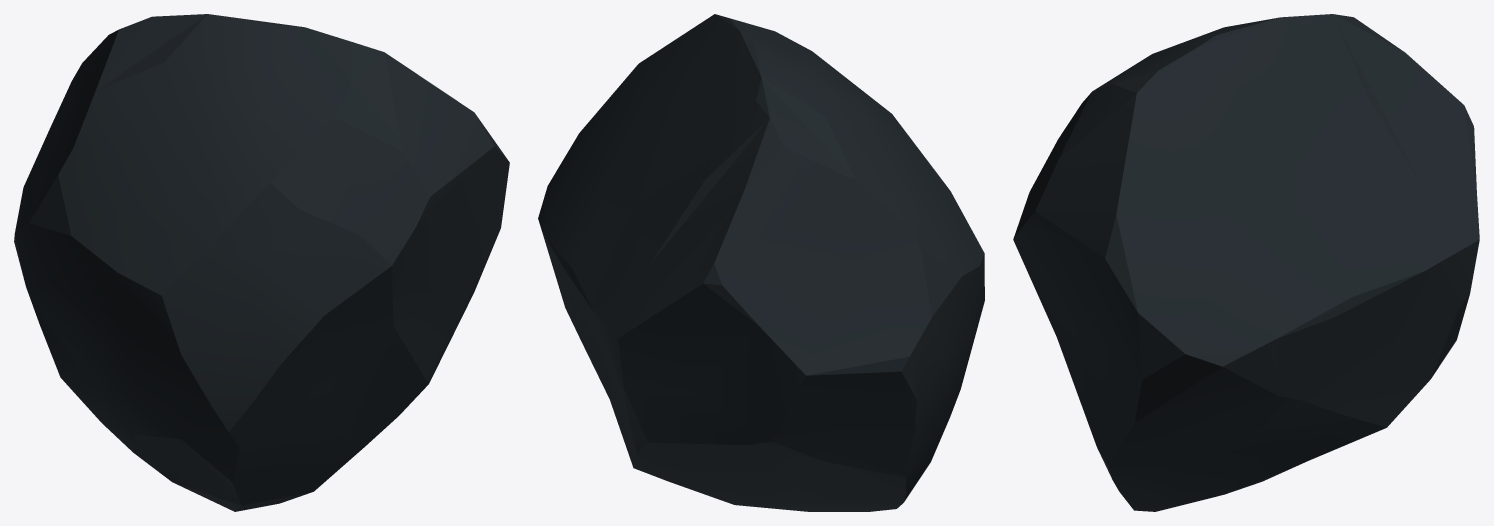
Rendered from Asteroid_s_35.FBX.
3 renders of one model, left to right at view 1: azimuth 30°, elevation 25°; view 2: azimuth 150°, elevation 25°; view 3: azimuth 270°, elevation 25°, orthographic. The views are drawn at different scales.
Visible parts, largest first — view 1: Asteroid_s_35; view 2: Asteroid_s_35; view 3: Asteroid_s_35.
Boxes of the visible parts, x1=… form: Asteroid_s_35: x1=14, y1=14, x2=509, y2=511; Asteroid_s_35: x1=538, y1=14, x2=984, y2=511; Asteroid_s_35: x1=1013, y1=14, x2=1479, y2=511.
Bounding box in the file's own units: 154 × 162 × 140.
